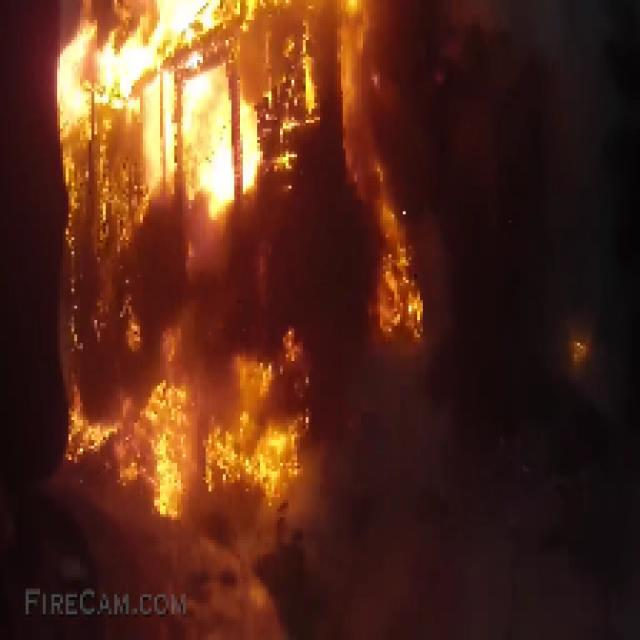fire: (57, 17, 405, 180), (66, 308, 306, 490), (356, 206, 448, 344)
smoke: (338, 377, 567, 618), (482, 17, 610, 266)
